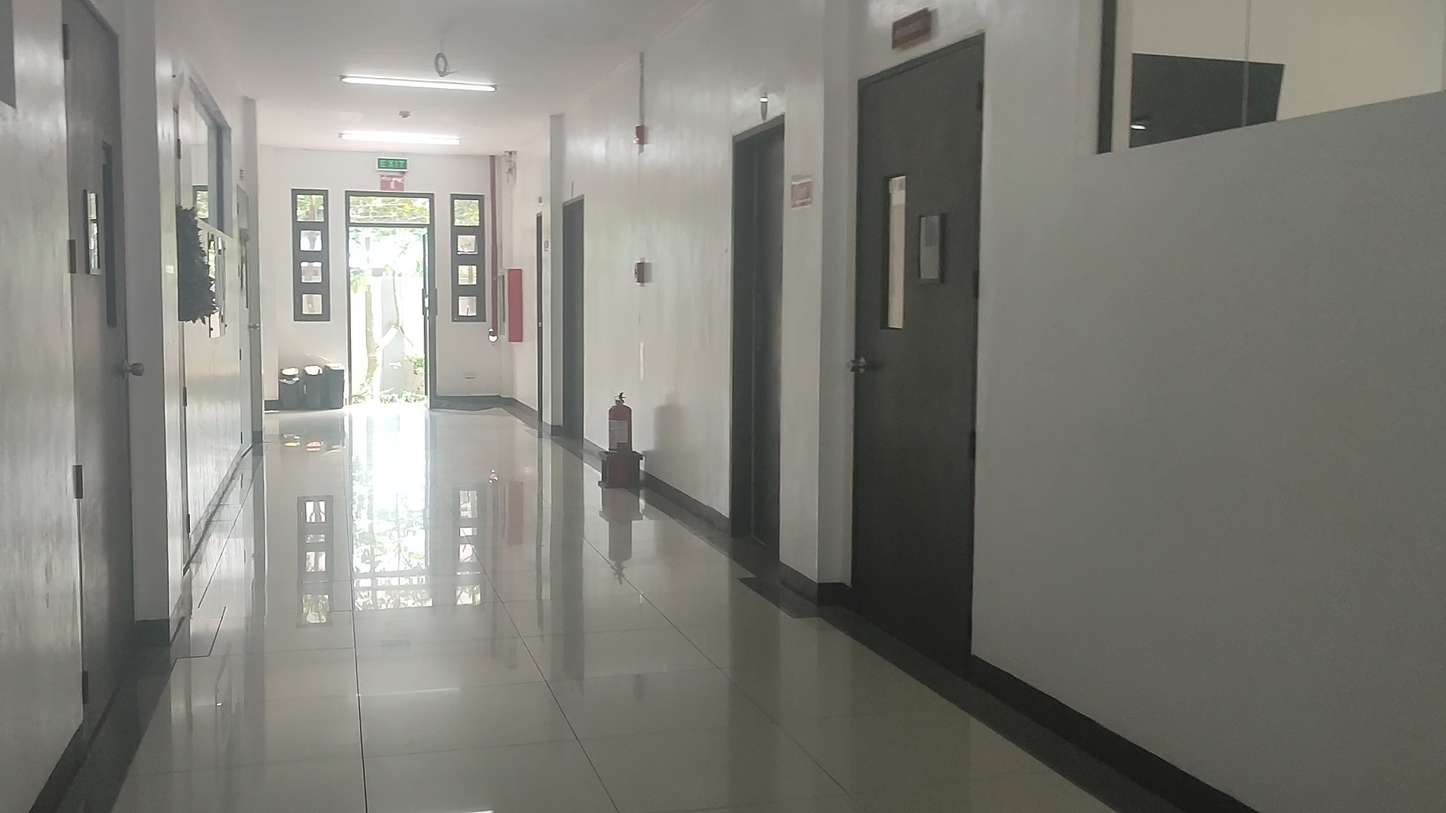door: (853, 34, 985, 659)
